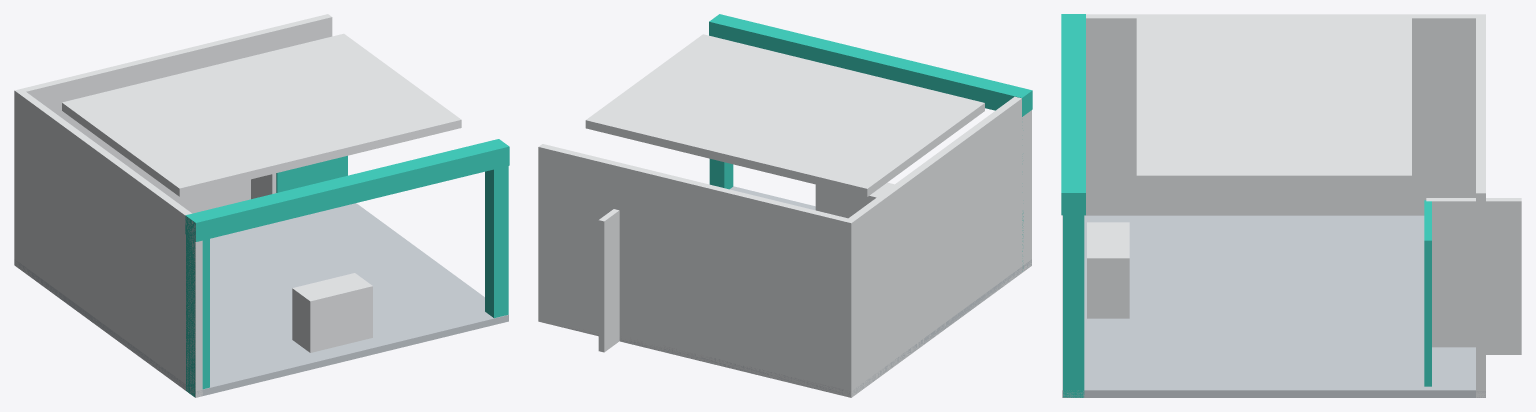
3 renders of one model, left to right at view 1: azimuth 30°, elevation 25°; view 2: azimuth 150°, elevation 25°; view 3: azimuth 270°, elevation 25°, orthographic. The views are drawn at different scales.
Visible parts, largest first — view 1: Exhibition Booth Concept; view 2: Exhibition Booth Concept; view 3: Exhibition Booth Concept.
Part boxes in pixels (bbox=[...]): Exhibition Booth Concept: bbox=[14, 14, 509, 397]; Exhibition Booth Concept: bbox=[538, 14, 1032, 397]; Exhibition Booth Concept: bbox=[1061, 14, 1521, 397].
Size of the model in its own units: 6 by 3.34 by 6.52.
